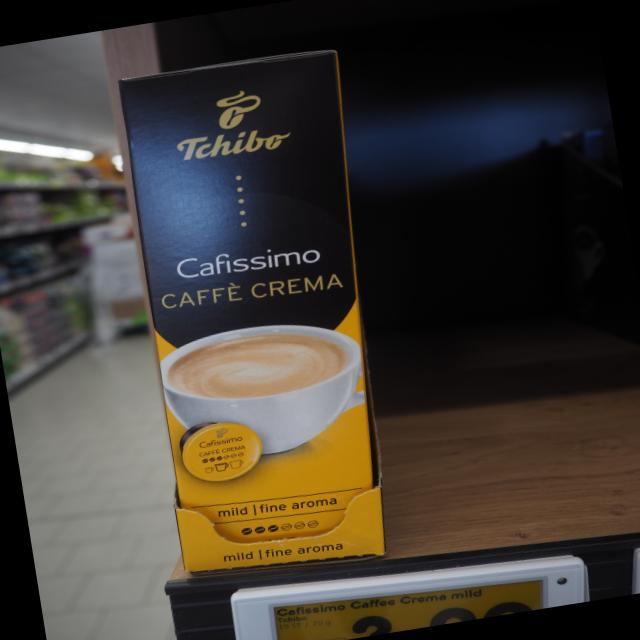Simo CCMild bigpack: (119, 45, 391, 579)
